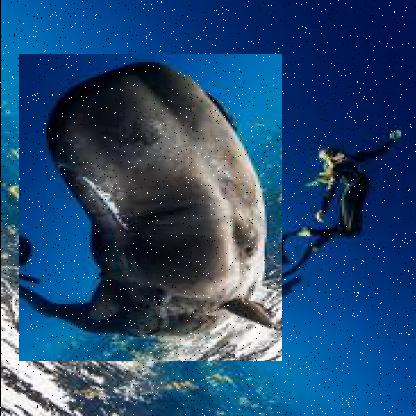sperm_whale: (18, 53, 282, 361)
